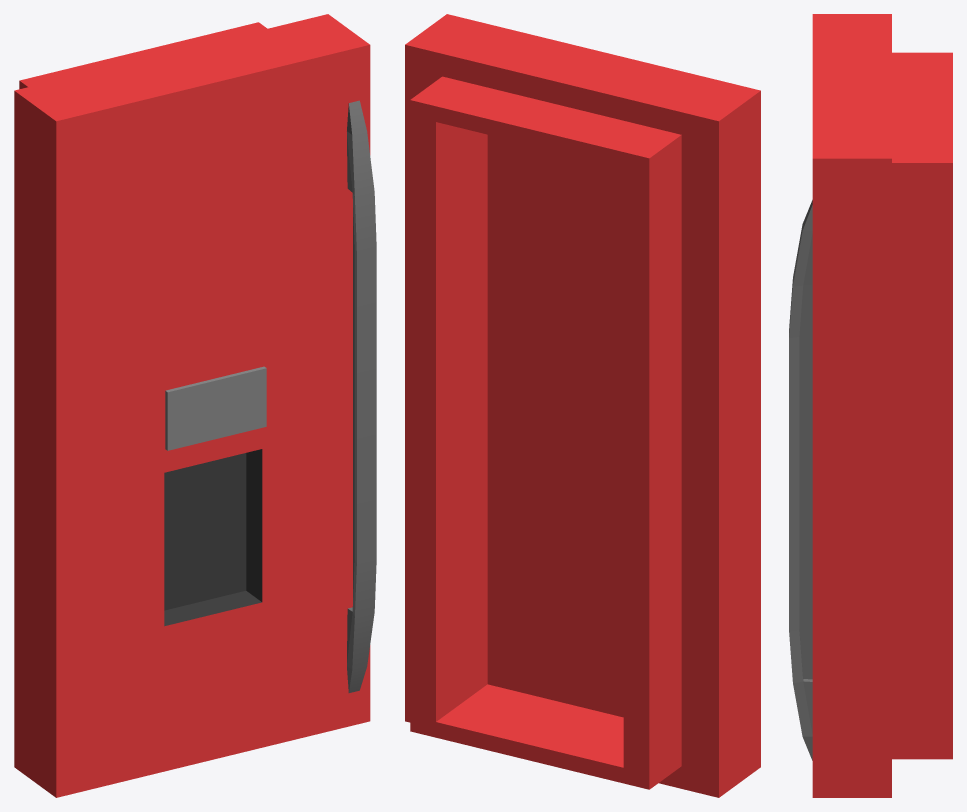
Rendered from Itr_Obj_Fridge1_Top_Door_Left_03.FBX.
The picture shows the model from 3 angles, left to right: view 1: azimuth 30°, elevation 25°; view 2: azimuth 150°, elevation 25°; view 3: azimuth 270°, elevation 25°; orthographic projection. The views are drawn at different scales.
Parts seen in each view (by area): view 1: Itr_Obj_Fridge1_Top_Door_Left_03; view 2: Itr_Obj_Fridge1_Top_Door_Left_03; view 3: Itr_Obj_Fridge1_Top_Door_Left_03.
Boxes of the visible parts, x1=… form: Itr_Obj_Fridge1_Top_Door_Left_03: x1=14, y1=14, x2=376, y2=797; Itr_Obj_Fridge1_Top_Door_Left_03: x1=405, y1=14, x2=760, y2=797; Itr_Obj_Fridge1_Top_Door_Left_03: x1=789, y1=14, x2=952, y2=797.
Bounding box in the file's own units: 22.45 × 46.23 × 10.74.
